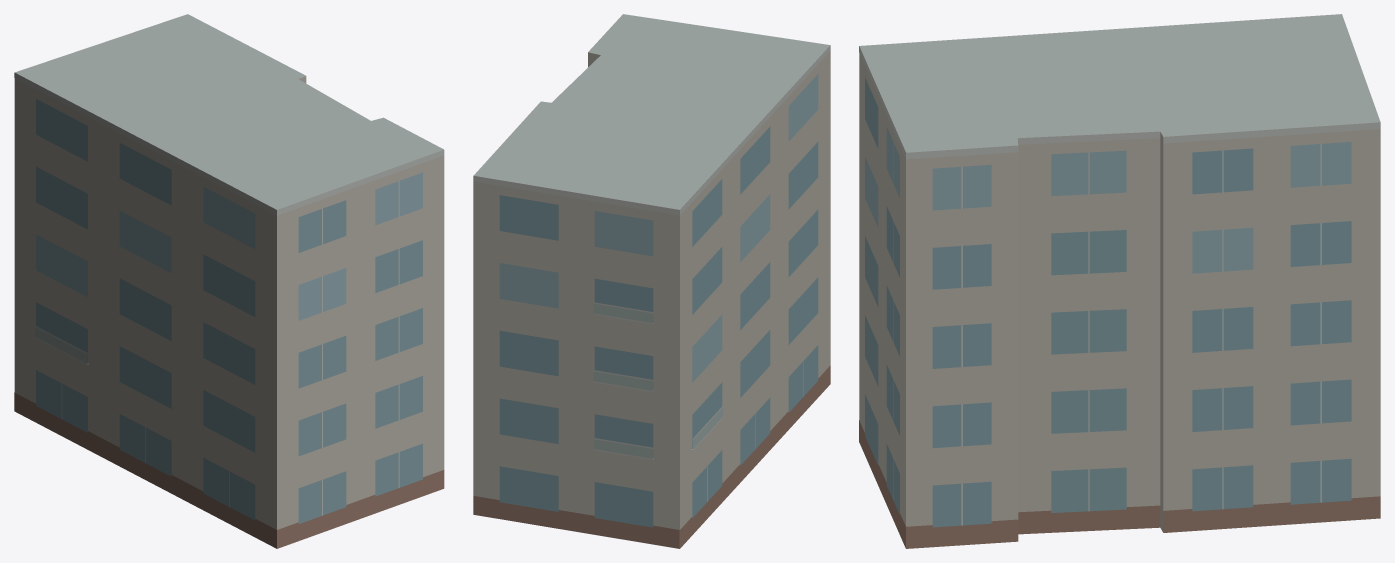
File: survey-upis-32789090.glb
3 views of the same model, side by side, from view 1: azimuth 30°, elevation 25°; view 2: azimuth 150°, elevation 25°; view 3: azimuth 270°, elevation 25° (orthographic). The views are drawn at different scales.
Visible parts, largest first — view 1: survey-upis-32789090.tmp; view 2: survey-upis-32789090.tmp; view 3: survey-upis-32789090.tmp.
Part boxes in pixels (left/top/right/bottom): survey-upis-32789090.tmp: left=14, top=14, right=444, bottom=548; survey-upis-32789090.tmp: left=473, top=14, right=830, bottom=548; survey-upis-32789090.tmp: left=859, top=14, right=1380, bottom=548.
Size of the model in its own units: 10.9 by 14.5 by 17.31.
